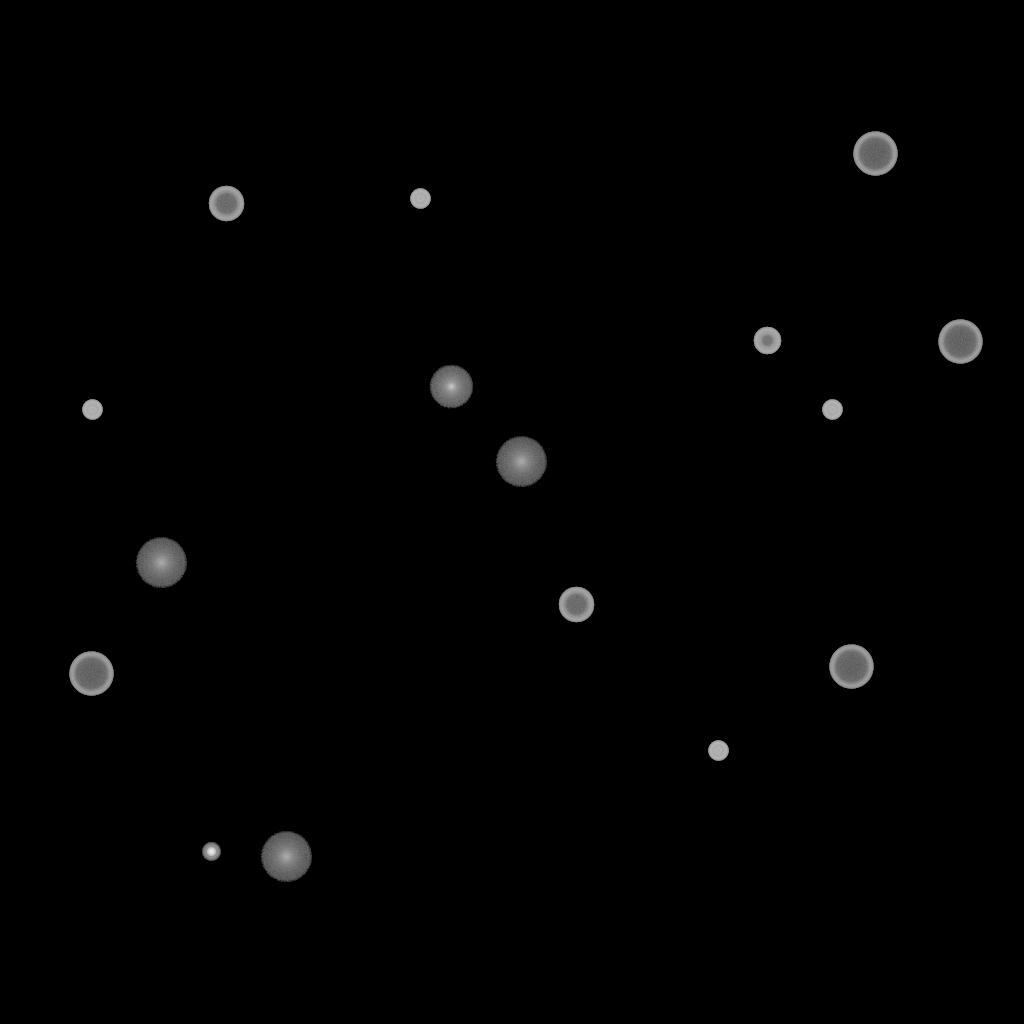depth:-20: (202, 843, 220, 861)
depth:-40: (82, 400, 102, 420), (708, 741, 728, 761), (410, 189, 430, 209), (822, 400, 842, 420)
depth:-50: (753, 327, 781, 355)
depth:-60: (208, 186, 244, 222), (558, 587, 594, 623)
depth:-70: (829, 645, 873, 689), (938, 320, 982, 364), (69, 652, 113, 696), (853, 132, 897, 176)
depth:10: (429, 365, 473, 409)
depth:20: (260, 832, 312, 882), (495, 437, 547, 487), (135, 538, 187, 588)
